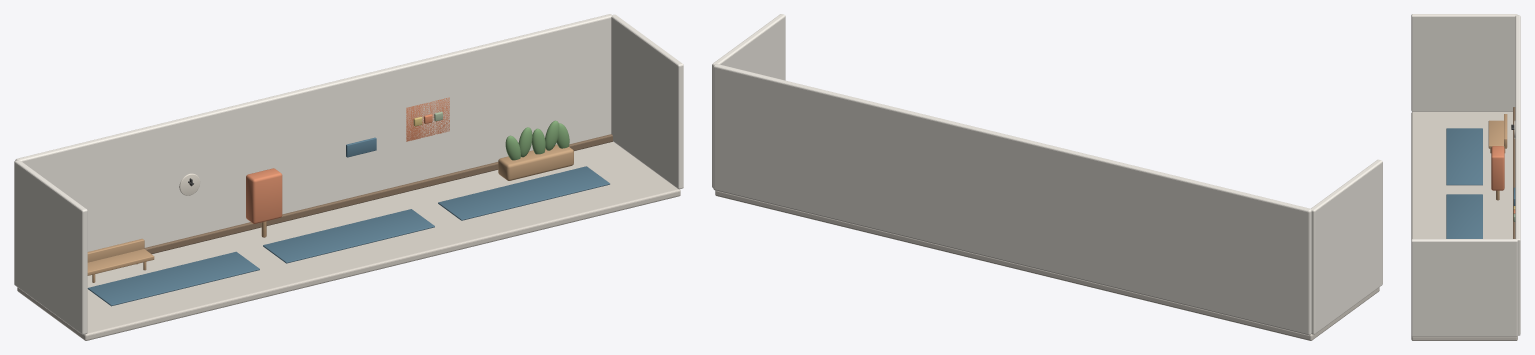
Rendered from room-corridor.glb.
3 views of the same model, side by side, from view 1: azimuth 30°, elevation 25°; view 2: azimuth 150°, elevation 25°; view 3: azimuth 270°, elevation 25° (orthographic). The views are drawn at different scales.
Visible parts, largest first — view 1: room-corridor_back, room-corridor_floor, room-corridor_left, room-corridor_right, rug.001, rug.004, rug.003, room-corridor_trim, panel.012, planter.001, panel.013, seat.055 (+1 smaller); view 2: room-corridor_back, room-corridor_left, room-corridor_floor, room-corridor_right; view 3: room-corridor_right, room-corridor_left, room-corridor_floor, rug.001, rug.003, room-corridor_back, panel.012, seat.055, room-corridor_trim, back.025.
Part boxes in pixels (x1=…): room-corridor_back: x1=15, y1=14, x2=611, y2=251; room-corridor_floor: x1=17, y1=141, x2=680, y2=340; room-corridor_left: x1=14, y1=160, x2=87, y2=334; room-corridor_right: x1=611, y1=14, x2=683, y2=189; rug.001: x1=87, y1=251, x2=259, y2=306; rug.004: x1=438, y1=166, x2=609, y2=220; rug.003: x1=263, y1=209, x2=434, y2=263; room-corridor_trim: x1=144, y1=134, x2=612, y2=253; panel.012: x1=246, y1=168, x2=282, y2=223; planter.001: x1=498, y1=144, x2=573, y2=180; panel.013: x1=406, y1=97, x2=449, y2=141; seat.055: x1=87, y1=249, x2=154, y2=275; room-corridor_back: x1=713, y1=64, x2=1311, y2=335; room-corridor_left: x1=1311, y1=159, x2=1382, y2=334; room-corridor_floor: x1=715, y1=190, x2=1379, y2=340; room-corridor_right: x1=712, y1=14, x2=785, y2=187; room-corridor_right: x1=1411, y1=239, x2=1517, y2=336; room-corridor_left: x1=1411, y1=14, x2=1517, y2=111; room-corridor_floor: x1=1411, y1=111, x2=1517, y2=340; rug.001: x1=1446, y1=128, x2=1482, y2=185; rug.003: x1=1446, y1=194, x2=1482, y2=238; room-corridor_back: x1=1515, y1=15, x2=1520, y2=335; panel.012: x1=1491, y1=146, x2=1504, y2=190; seat.055: x1=1488, y1=120, x2=1506, y2=148; room-corridor_trim: x1=1513, y1=107, x2=1515, y2=238; back.025: x1=1504, y1=114, x2=1507, y2=147.
Bounding box in the file's own units: 16.16 × 3.38 × 3.28.
